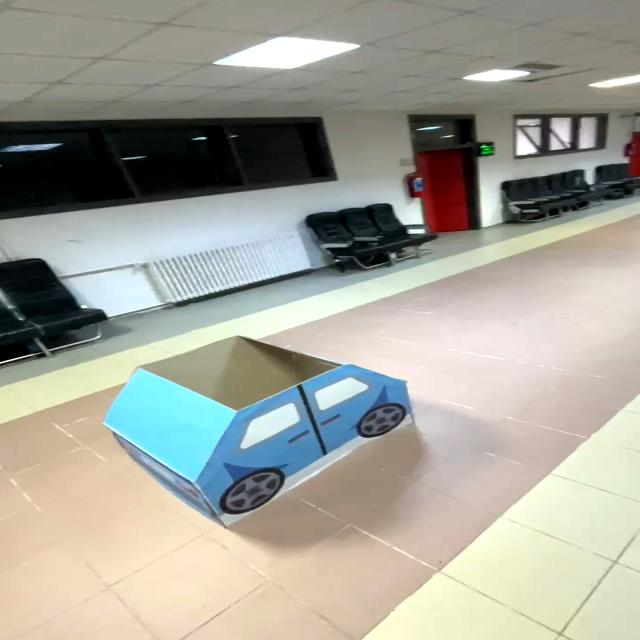blue_car: (66, 328, 439, 534)
